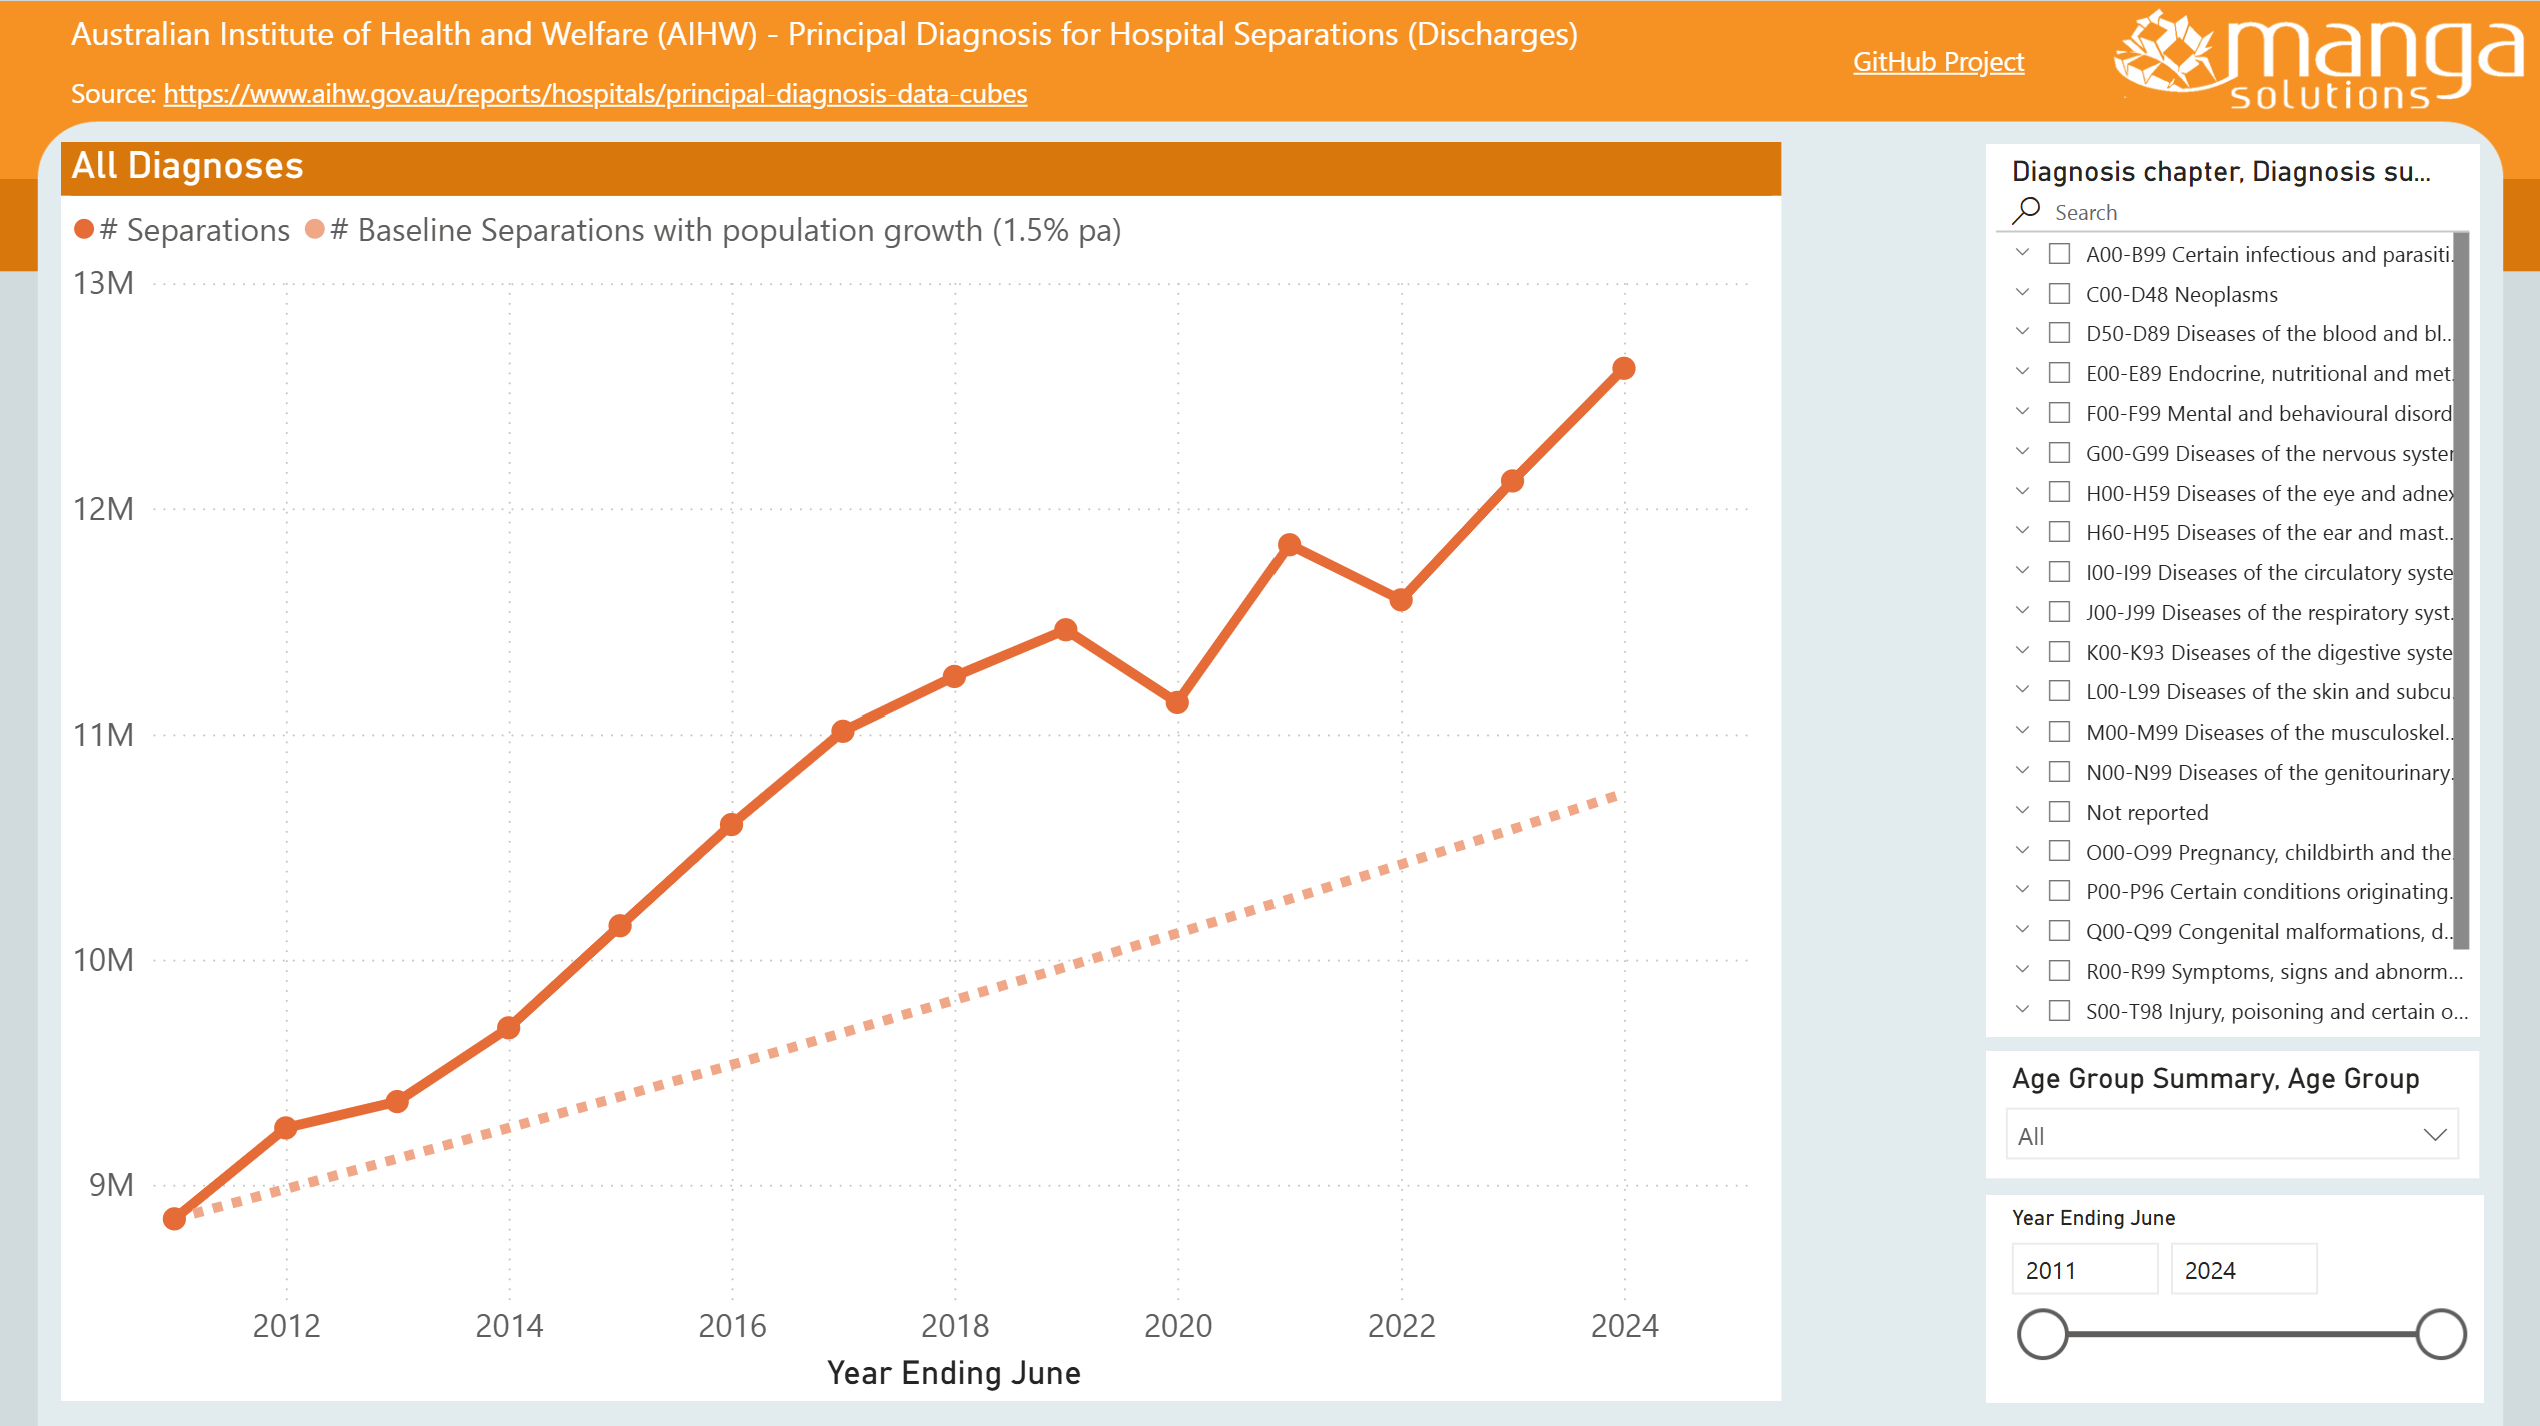

The page's visual inventory and layout, read from the dashboard file:
{"tool":"powerbi","page":{"name":"Time Series","canvas":[1280,720],"ordinal":0},"visuals":[{"type":"textbox","box":[32,0,880,48],"z":0},{"type":"actionButton","box":[1056,0,224,64],"z":1000},{"type":"textbox","box":[896,16,128,32],"z":2000},{"type":"textbox","box":[31.7,31.7,494,31.7],"z":3000},{"type":"lineChart","fields":{"Y":["Principial Diagnosis.# Separations","Principal Diagnosis.# Baseline Separations with population growth (1.5% pa)"],"Category":["Principial Diagnosis.Year Ending June"]},"box":[31.9,71.4,864.4,632.4],"z":4000},{"type":"slicer","fields":{"Values":["Principial Diagnosis.Year Ending June"]},"box":[999.5,600.5,249.9,104.5],"z":5000},{"type":"slicer","fields":{"Values":["ICD classifications.Diagnosis chapter","ICD classifications.Diagnosis subchapter","ICD classifications.3 digit diagnosis","ICD classifications.4 digit diagnosis","ICD classifications.5 digit diagnosis"]},"box":[1000,72,248,448],"z":6000},{"type":"slicer","fields":{"Values":["Principial Diagnosis.Age Group Summary","Principial Diagnosis.Age Group"]},"box":[1000,528,248,64],"z":7000}]}

Visuals, with their boxes in screenshot pixels (x1, y1, x2, y2), scaled from the page's 1280x720 canvas onto the 2540x1426 screenshot:
textbox: <region>64, 0, 1810, 95</region>
actionButton: <region>2096, 0, 2539, 127</region>
textbox: <region>1778, 32, 2032, 95</region>
textbox: <region>63, 63, 1043, 126</region>
lineChart - Principial Diagnosis.# Separations x Principal Diagnosis.# Baseline Separations with population growth (1.5% pa): <region>63, 141, 1779, 1394</region>
slicer - Principial Diagnosis.Year Ending June: <region>1983, 1189, 2479, 1396</region>
slicer - ICD classifications.Diagnosis chapter x ICD classifications.Diagnosis subchapter: <region>1984, 143, 2476, 1030</region>
slicer - Principial Diagnosis.Age Group Summary x Principial Diagnosis.Age Group: <region>1984, 1046, 2476, 1172</region>
